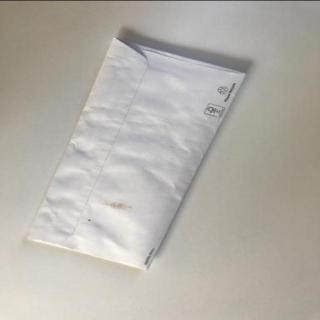Anorganik: (26, 36, 248, 272)
